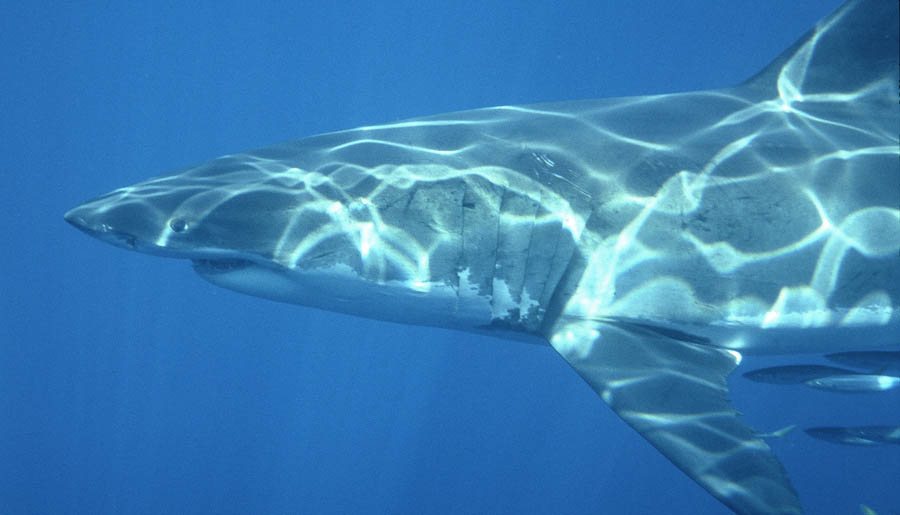Carcharodon_carcharias: (47, 3, 894, 515)
